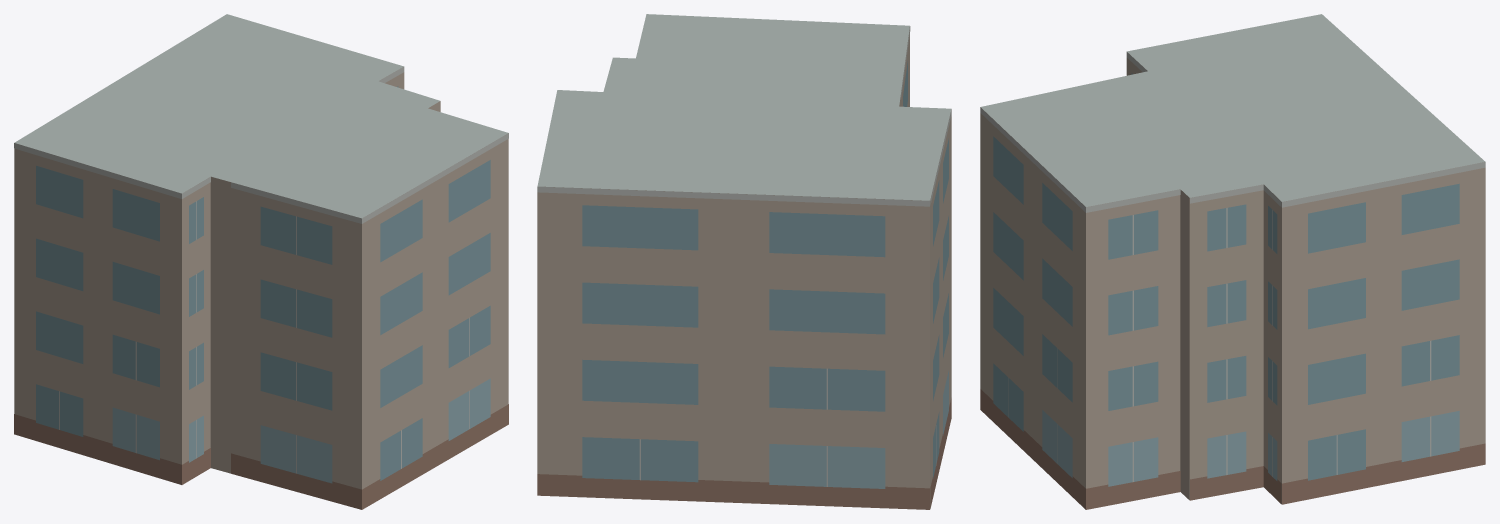
File: survey-upis-32740876.glb
3 renders of one model, left to right at view 1: azimuth 30°, elevation 25°; view 2: azimuth 150°, elevation 25°; view 3: azimuth 270°, elevation 25°, orthographic. The views are drawn at different scales.
Visible parts, largest first — view 1: survey-upis-32740876.tmp; view 2: survey-upis-32740876.tmp; view 3: survey-upis-32740876.tmp.
Part boxes in pixels (<box>): survey-upis-32740876.tmp: <box>14,14,508,509</box>; survey-upis-32740876.tmp: <box>537,14,951,509</box>; survey-upis-32740876.tmp: <box>980,14,1485,509</box>.
Size of the model in its own units: 17.38 by 12.7 by 19.22.
